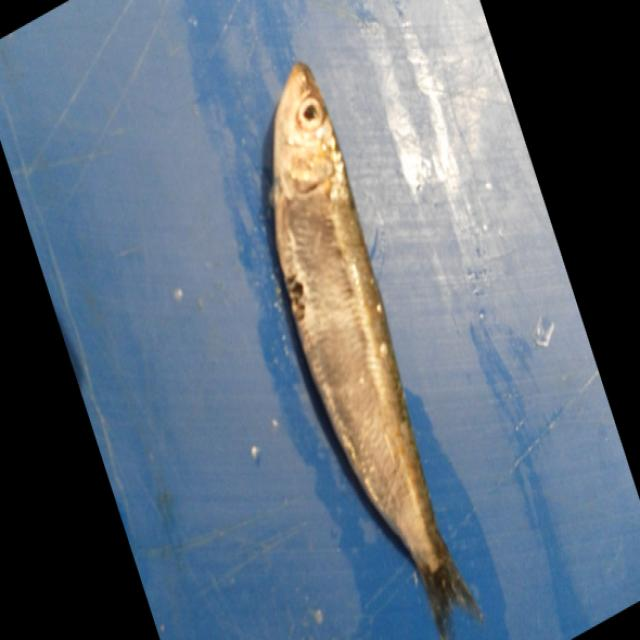Black-Sea-Sprat-tirsi-: (269, 63, 482, 640)
